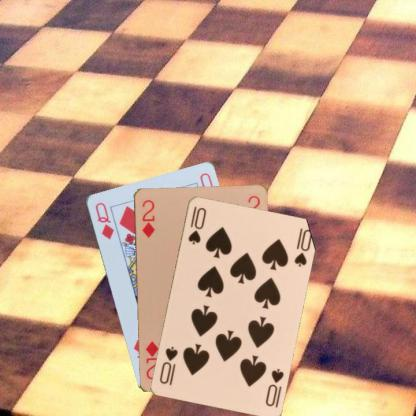10s: (262, 365, 285, 407), (185, 204, 207, 246)
2d: (139, 197, 156, 239)
Qd: (92, 200, 115, 240)
